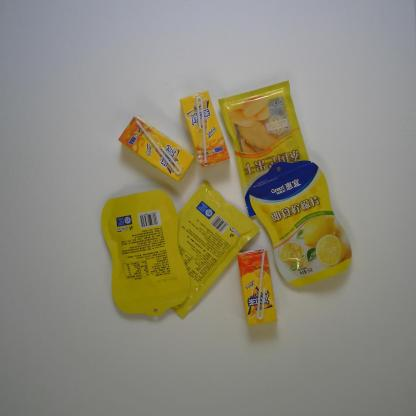Dried Fruit: (154, 180, 260, 321), (249, 159, 354, 289), (218, 80, 310, 218), (100, 189, 191, 318)
Drink: (118, 116, 195, 182), (179, 90, 230, 169), (238, 248, 277, 328)
